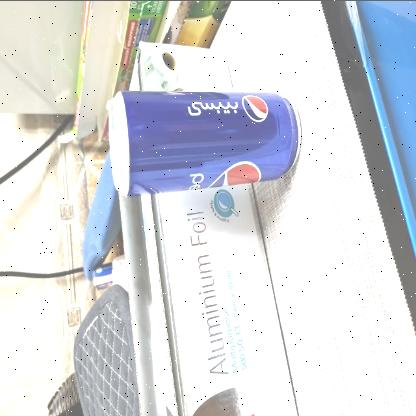Can: (108, 84, 304, 197)
